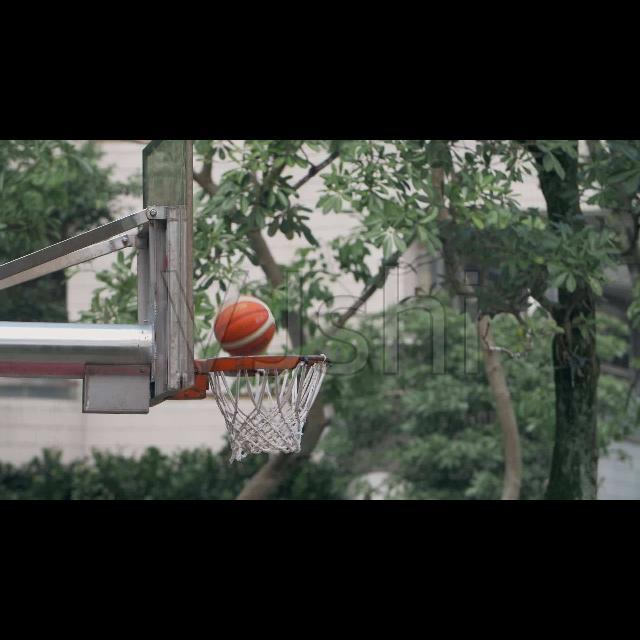basketball: (217, 299, 276, 355)
rim: (208, 356, 330, 452)
